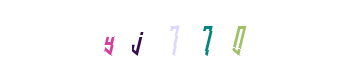0: (190, 0, 270, 80)
7: (137, 0, 217, 80), (168, 0, 248, 80)
J: (97, 0, 177, 80)
Y: (72, 0, 152, 80)
